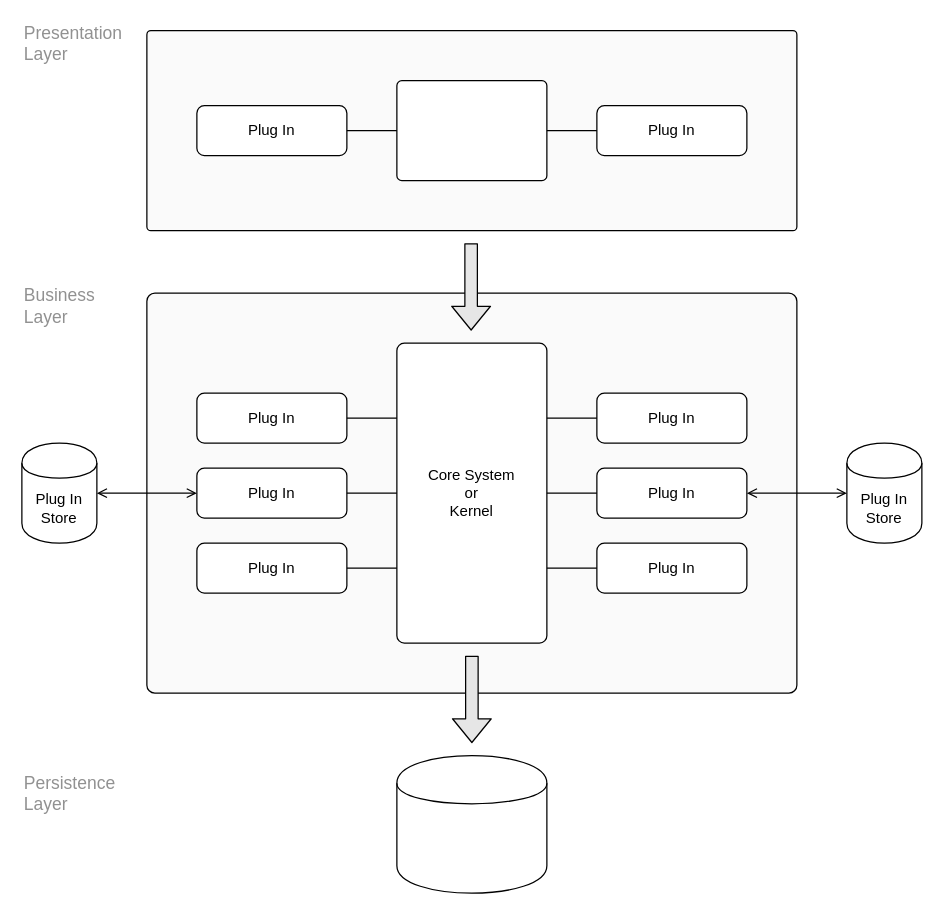
Some shapes in this 944 by 915 pixel diagram are drawn without their labels. Each missing label, with the centre of its shape:
"Core UI" belongs at point 471,130.
"System Database" belongs at point 471,823.
